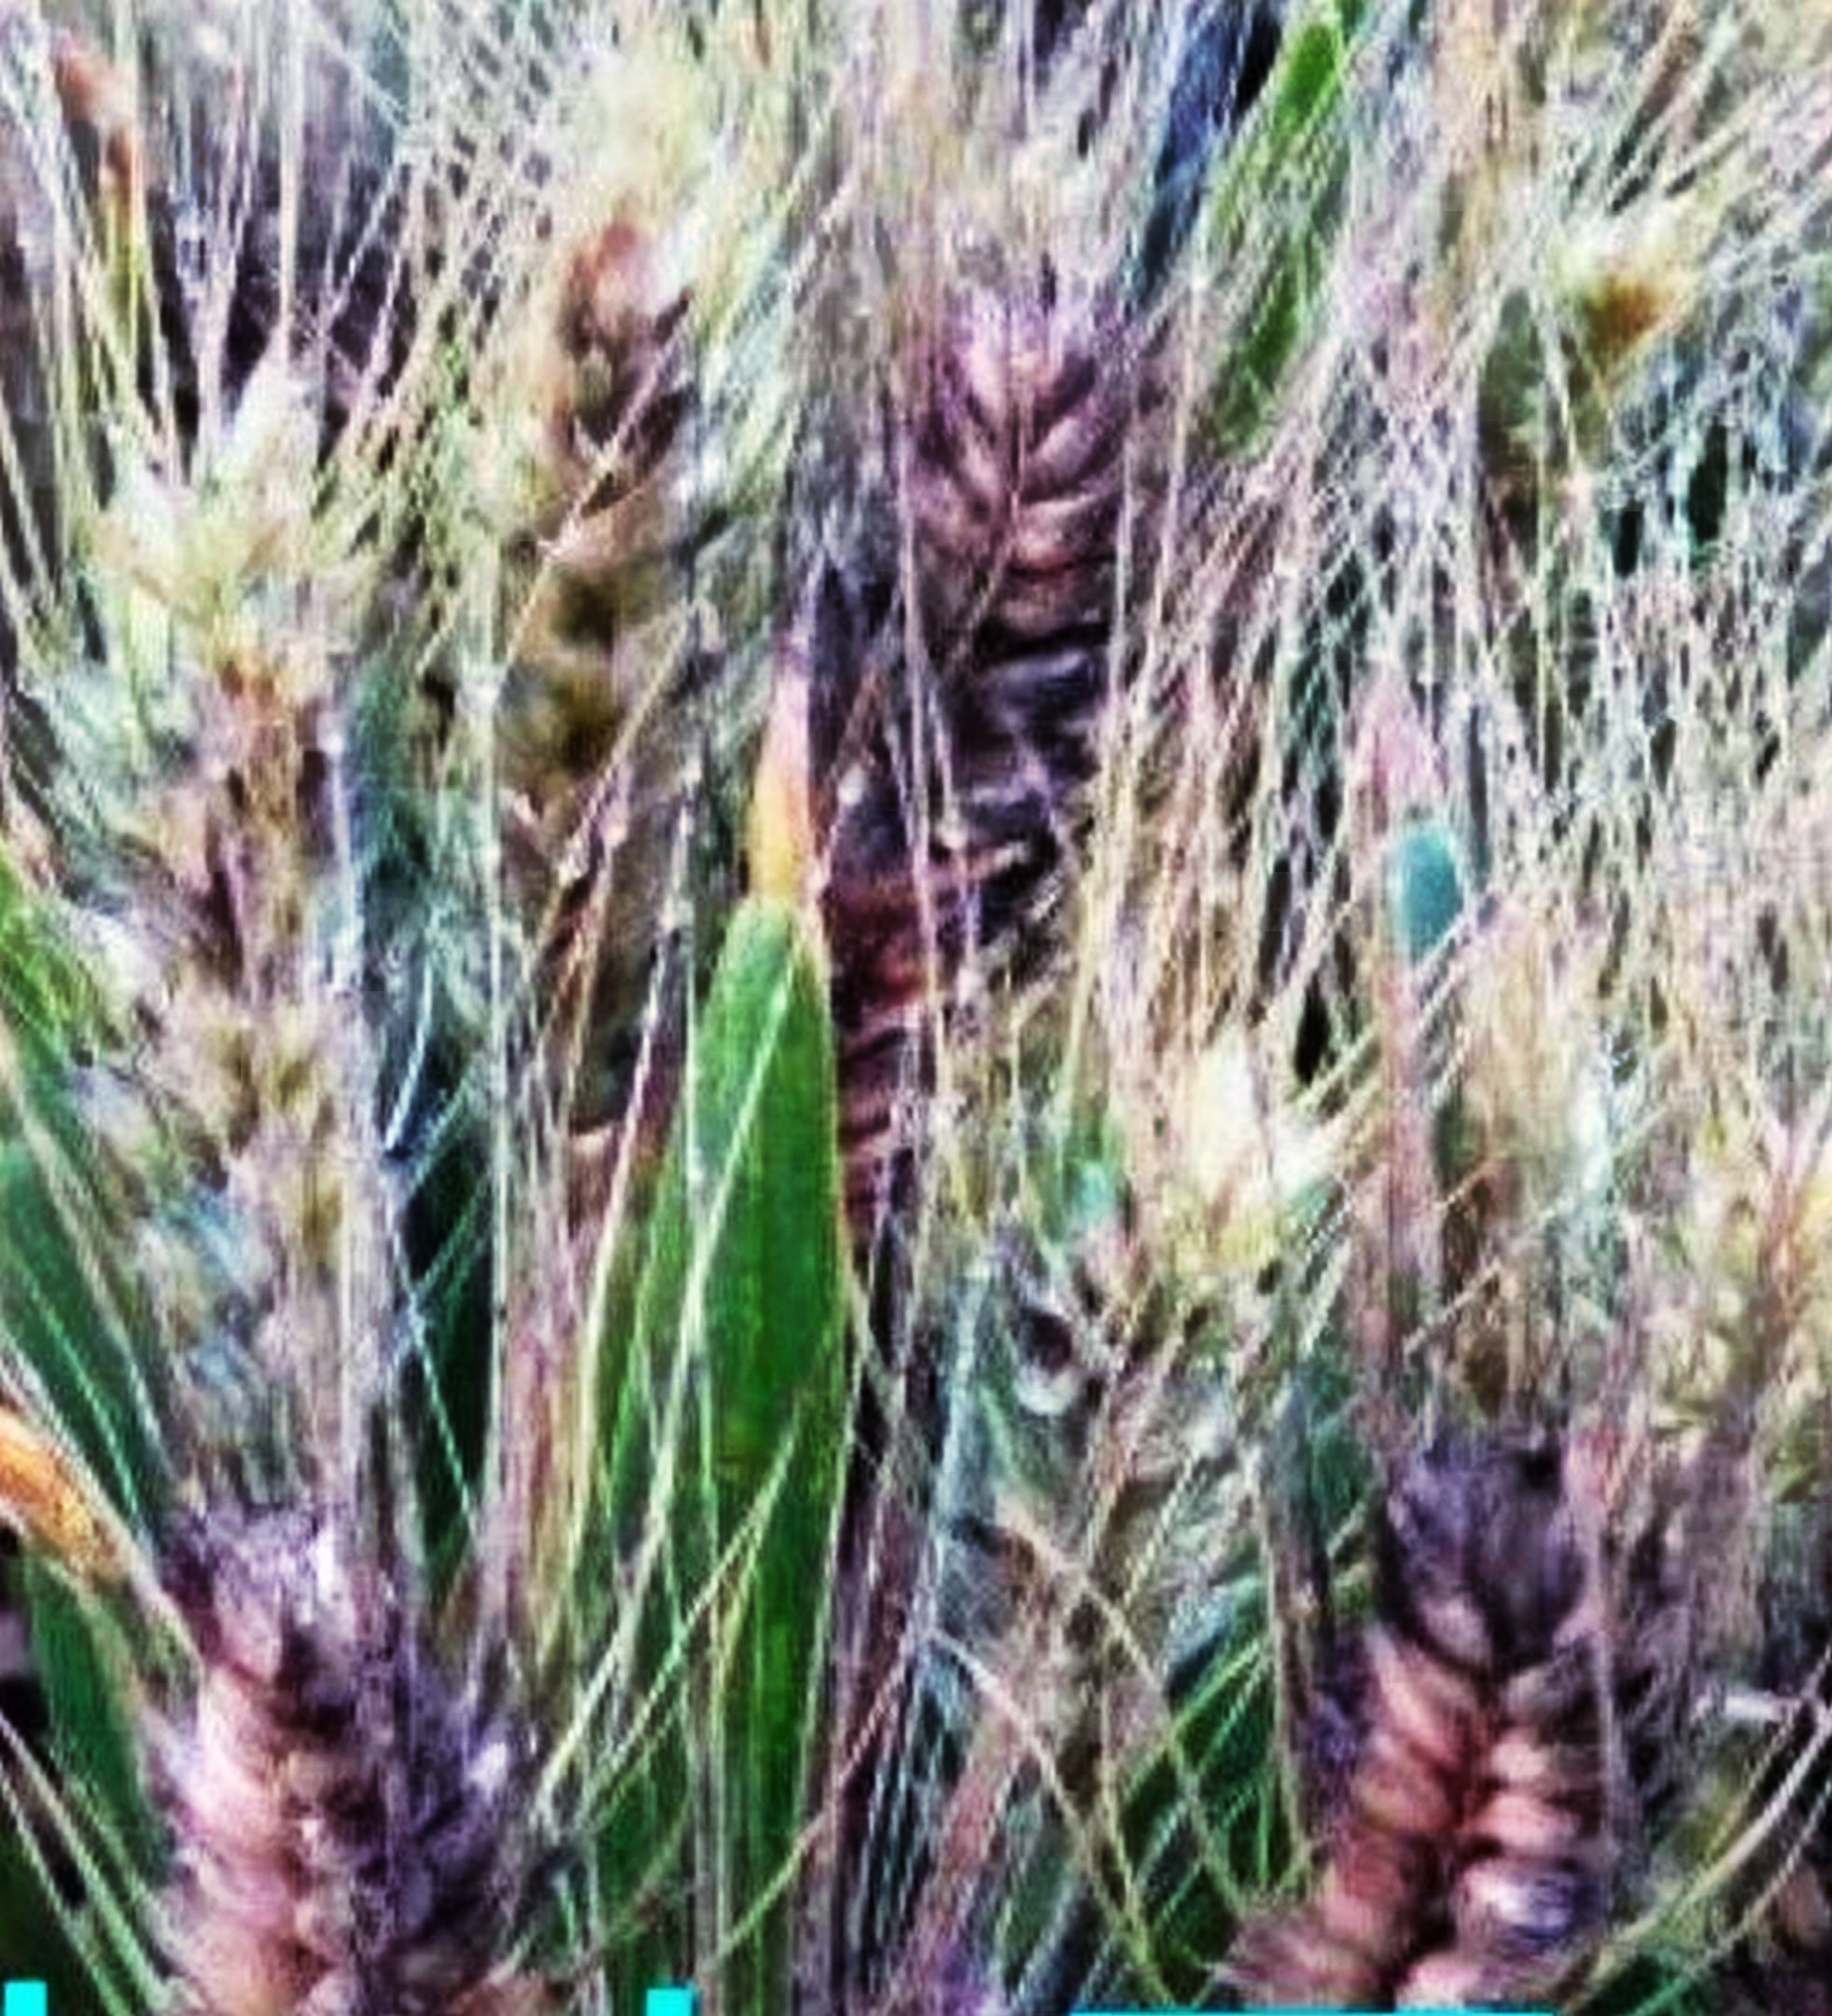Wheat scab: (1261, 1507, 1727, 1981), (156, 1508, 530, 2016), (892, 269, 1177, 811)
